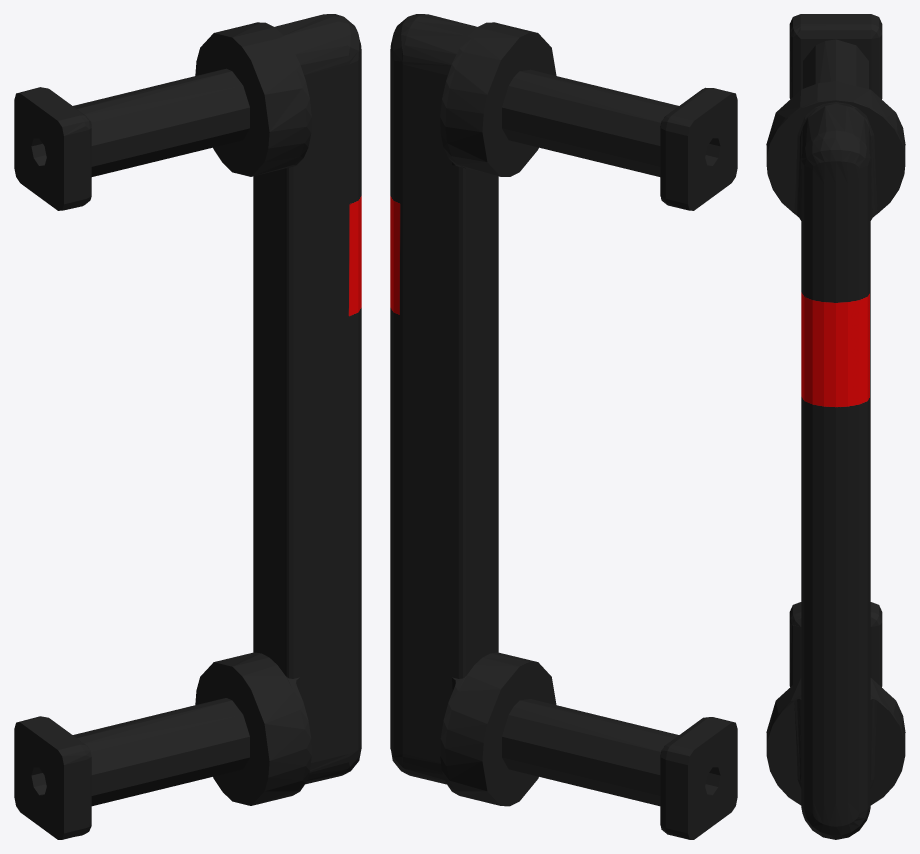
The model's file is imetro_hatch_handle.obj.
3 views of the same model, side by side, from view 1: azimuth 30°, elevation 25°; view 2: azimuth 150°, elevation 25°; view 3: azimuth 270°, elevation 25° (orthographic). The views are drawn at different scales.
Bounding box in the file's own units: 0.0934 × 0.2159 × 0.0381.
Materials: 1 (1 with a texture image).
